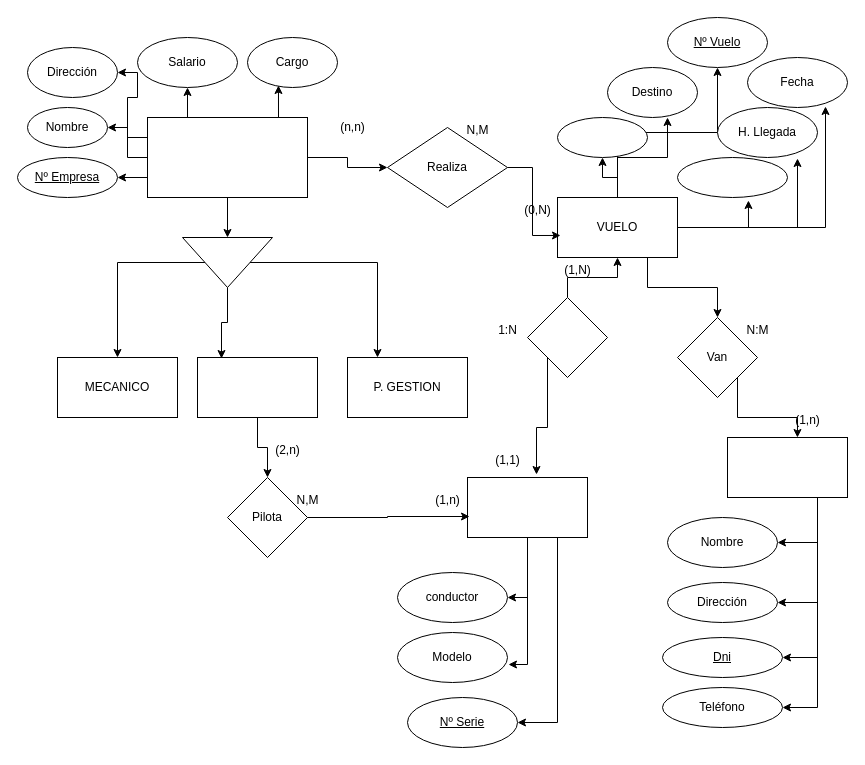
This 865x765 diagram has some shape labels left out. The centre of each missing label's shape, as x and y in pixels:
"AVIÓN" belongs at (x=527, y=507).
"EMPLEADO" belongs at (x=227, y=157).
"H. Salida" belongs at (x=732, y=177).
"iS A" belongs at (x=227, y=262).
"Origen" belongs at (x=602, y=137).
"PASAJERO" belongs at (x=787, y=467).
"PILOTO" belongs at (x=257, y=387).
"Usa" belongs at (x=567, y=337).
